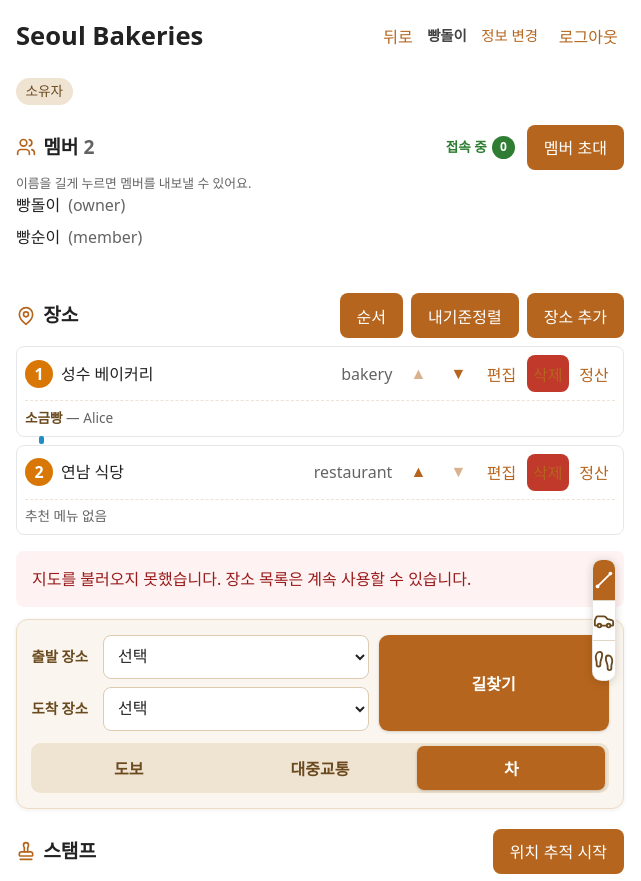
Test: TourDetail permission UI (REQ-F6-004/005/006 / AC-F6-04..06) › owner can create an invite and sees the shareable link (AC-F6-02)
The image size is (641, 881).
Expected: the heading "Seoul Bakeries" is shown, [16,17,203,55]
Click the button "멤버 초대".
click(575, 147)  # box [527,125,624,170]
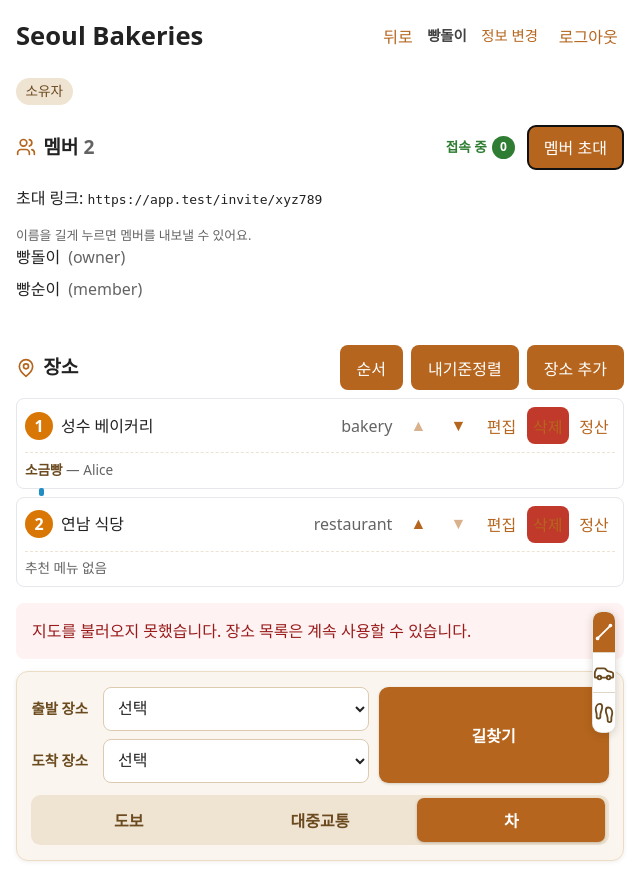
Now the element with test id "invite-link" shows "https://app.test/invite/xyz789", box [88,192,322,207]
